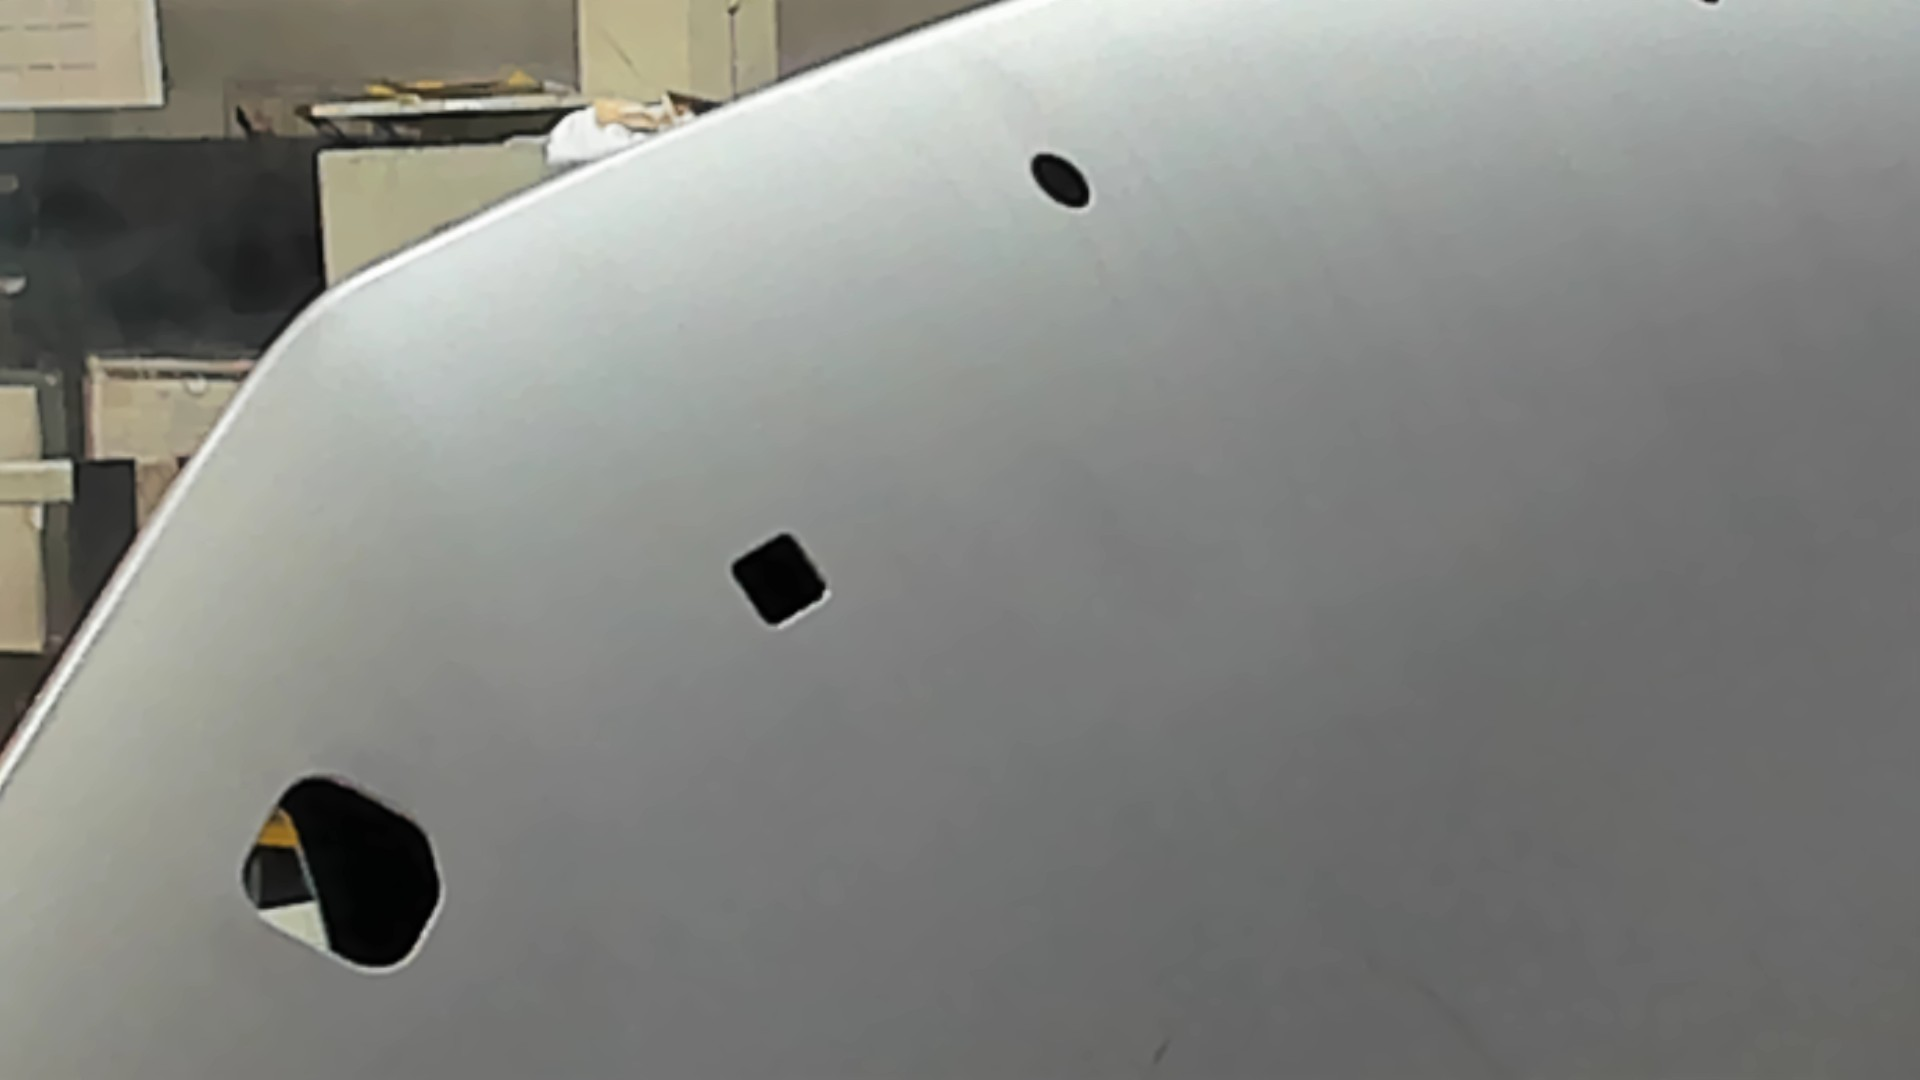Agujero: (728, 531, 833, 629), (1031, 152, 1092, 208)
Agujerote: (237, 775, 444, 977)
